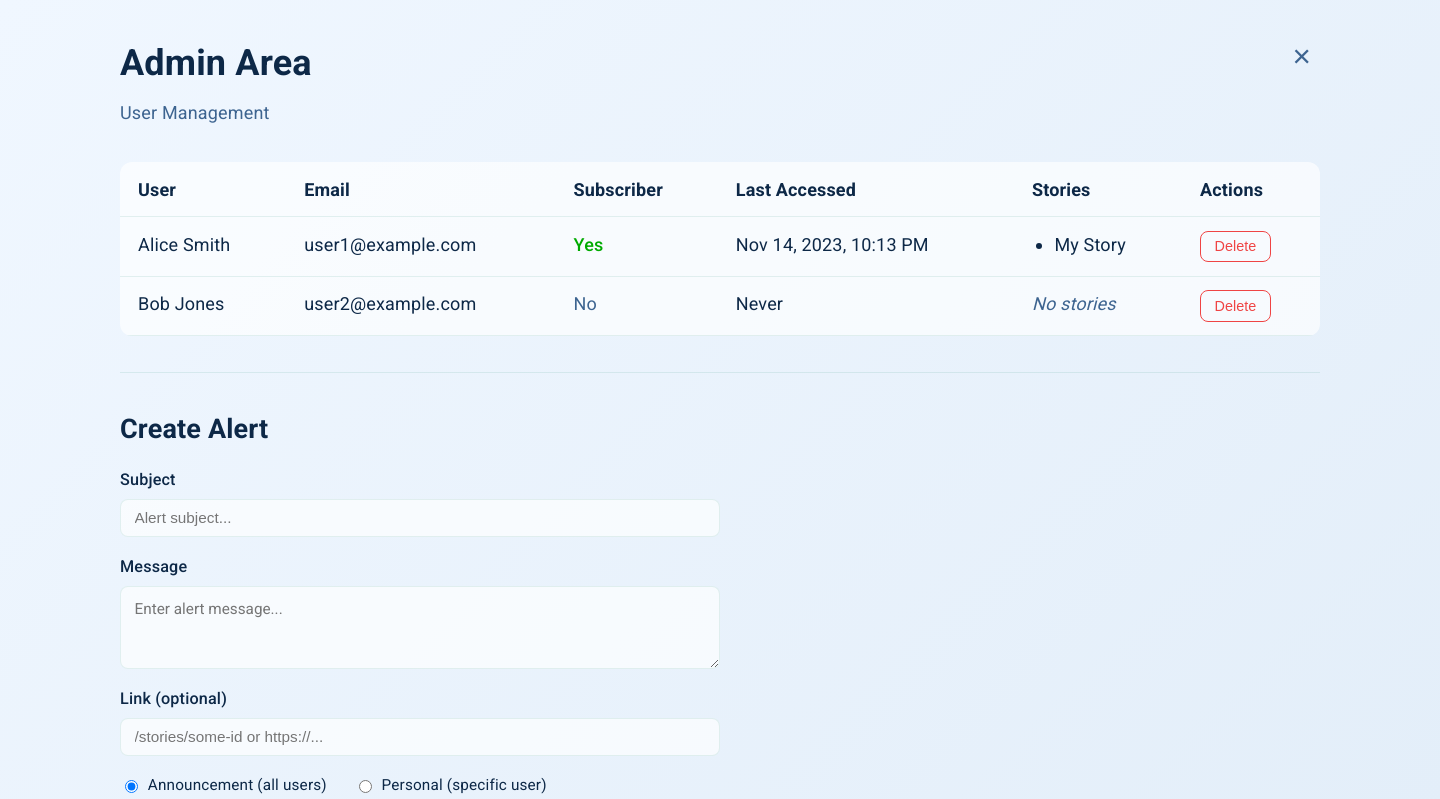
Test: AdminArea › shows error on API failure
Click the button "Delete" in the row of "Alice Smith". click: (1235, 246)
box: x1=1200 y1=230 x2=1271 y2=262
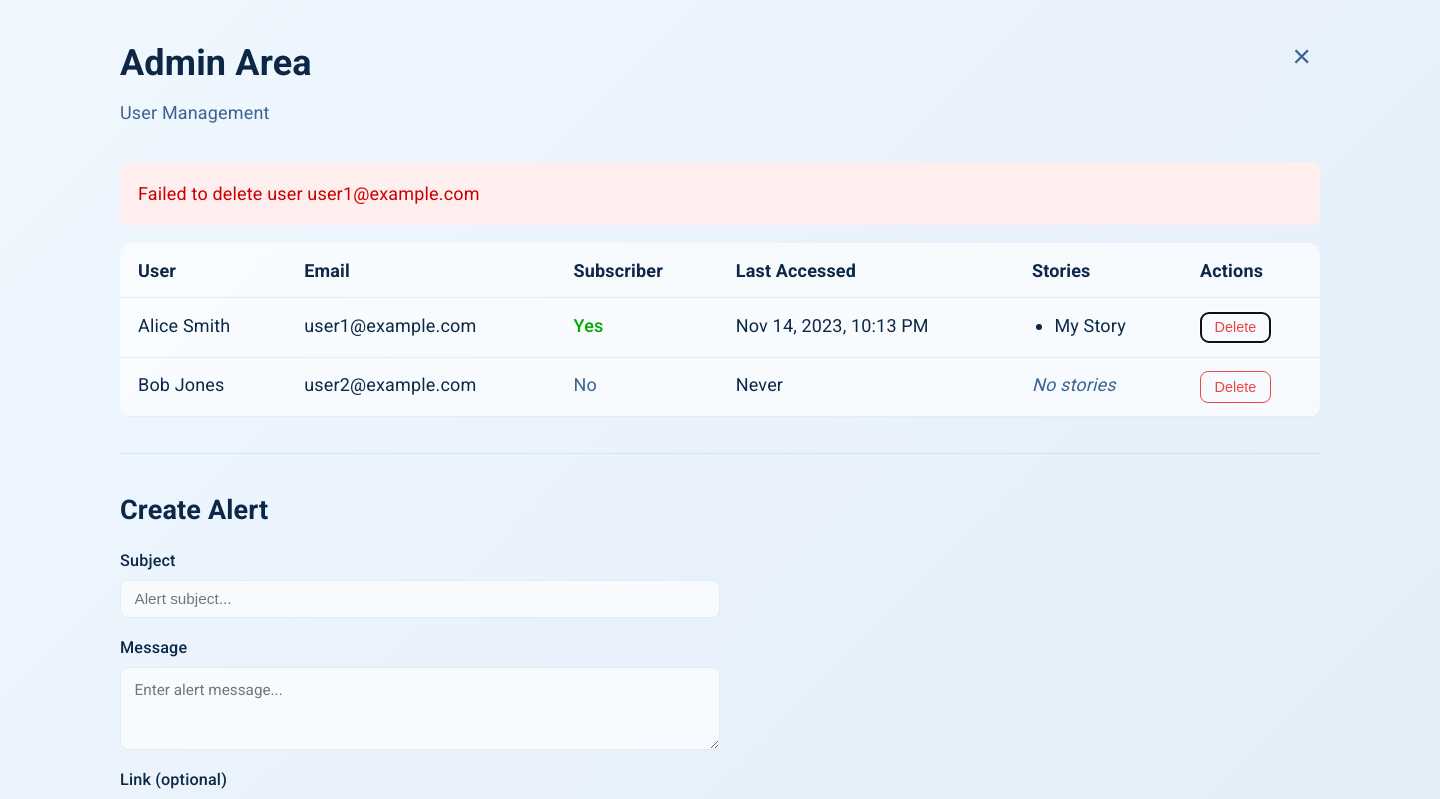
Now the text "Failed to delete user user1@example.com" is shown, box x1=120 y1=162 x2=1320 y2=225
